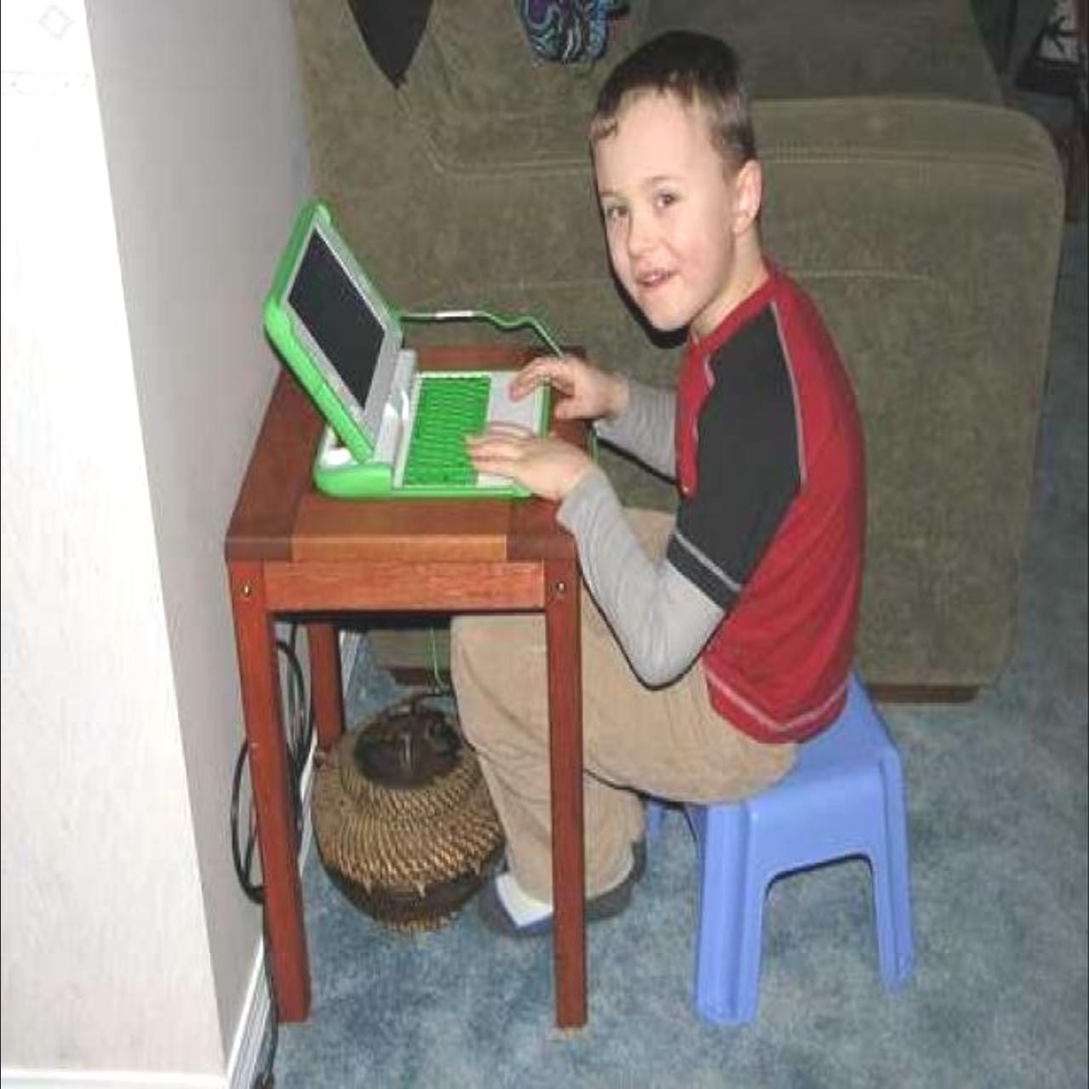laptop: (260, 189, 543, 512)
